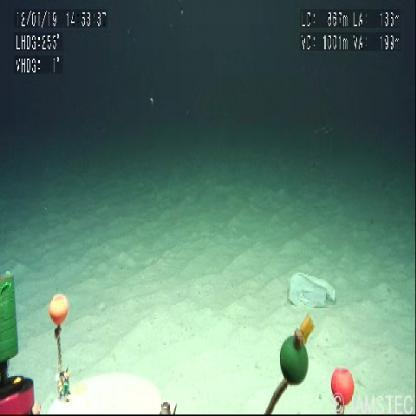Rác: (289, 273, 337, 310)
